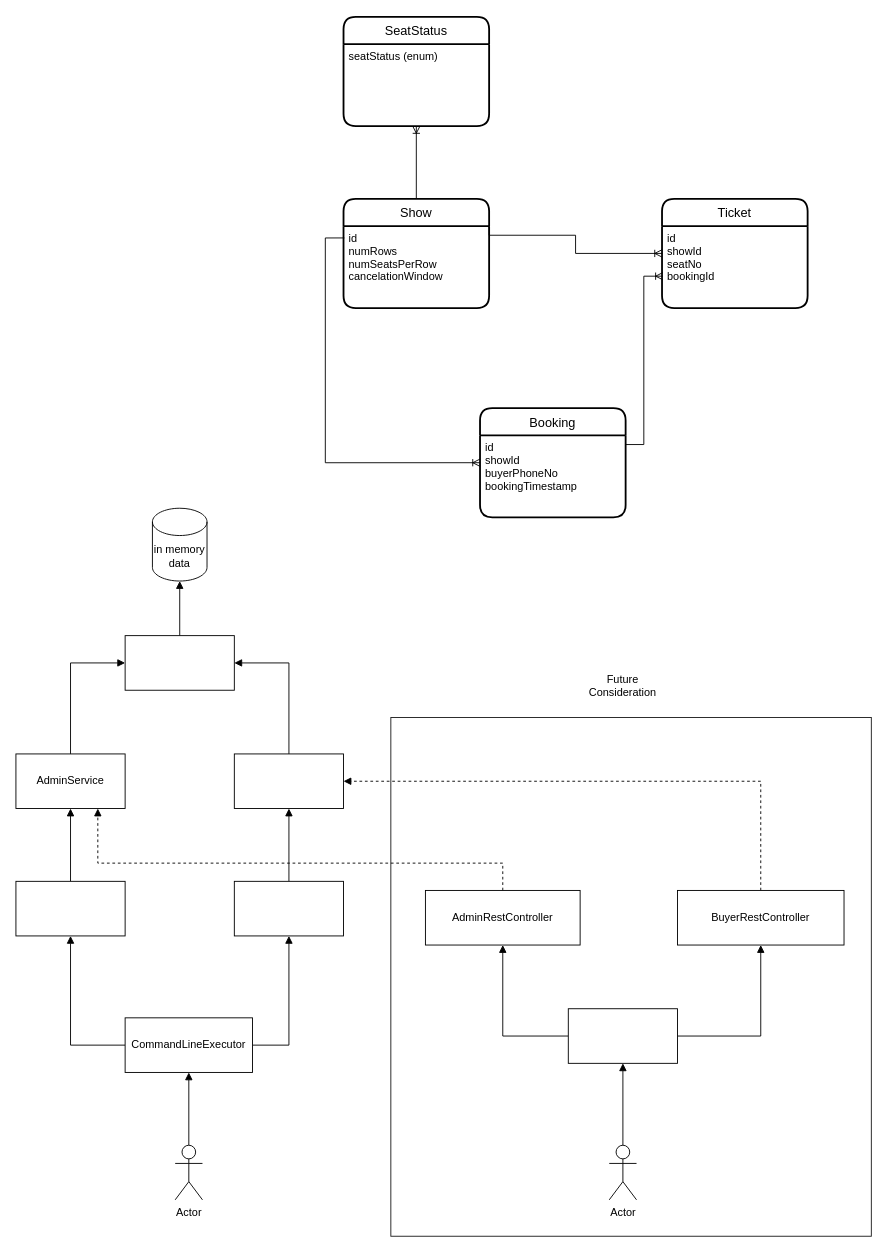
Some shapes in this 887 by 1252 pixel diagram are drawn without their labels. Each missing label, with the centre of its shape:
AdminController: point (70, 908)
BuyerController: point (288, 908)
BuyerService: point (288, 781)
InMemoryDataStorage: point (179, 662)
RestAPI: point (622, 1035)
